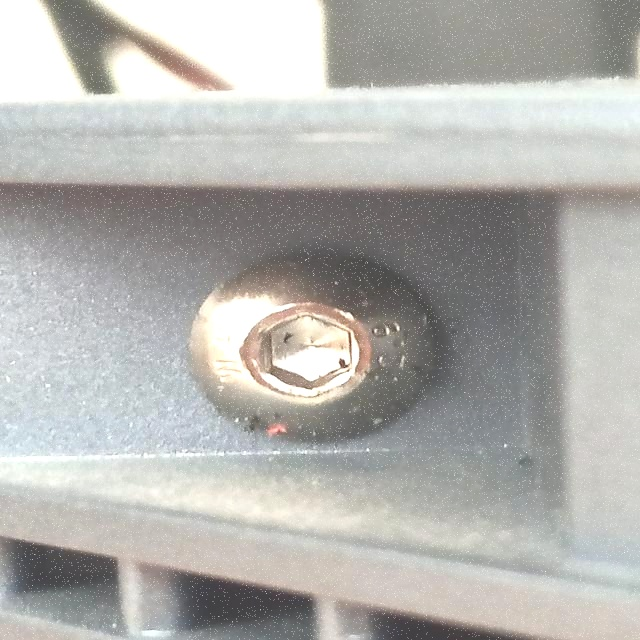allen: (265, 312, 359, 386)
